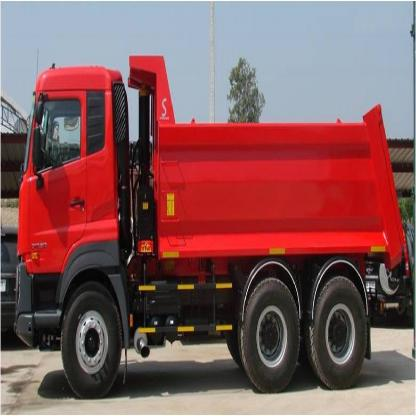dump_truck: (9, 51, 412, 397)
